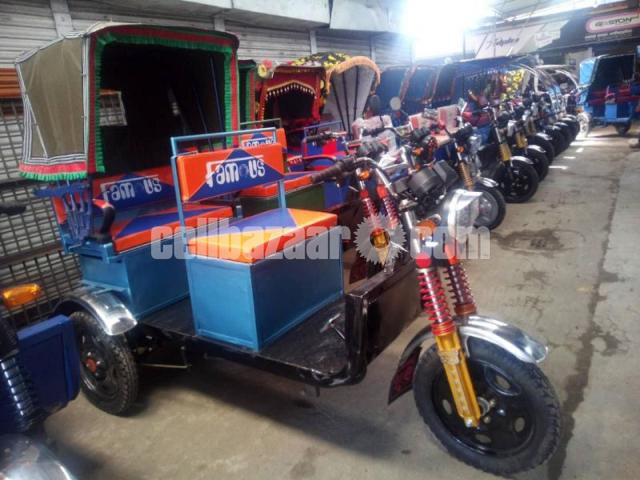Rickshaw: (1, 14, 575, 472), (250, 45, 504, 247)
